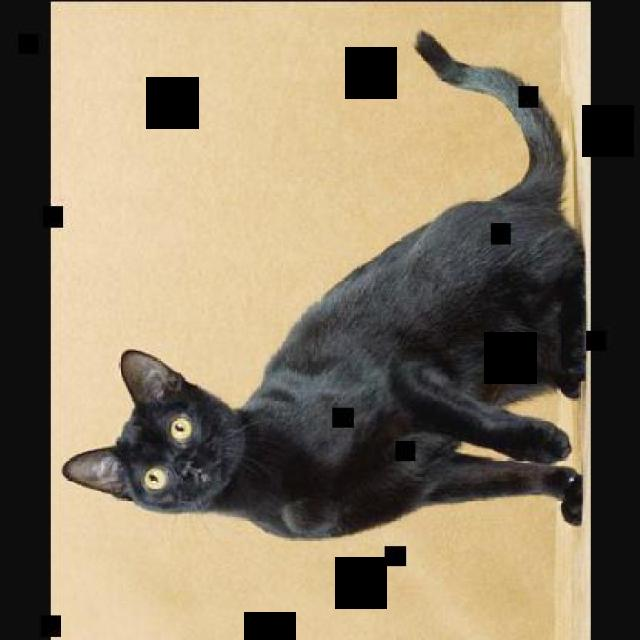unauthorized: (62, 28, 586, 540)
